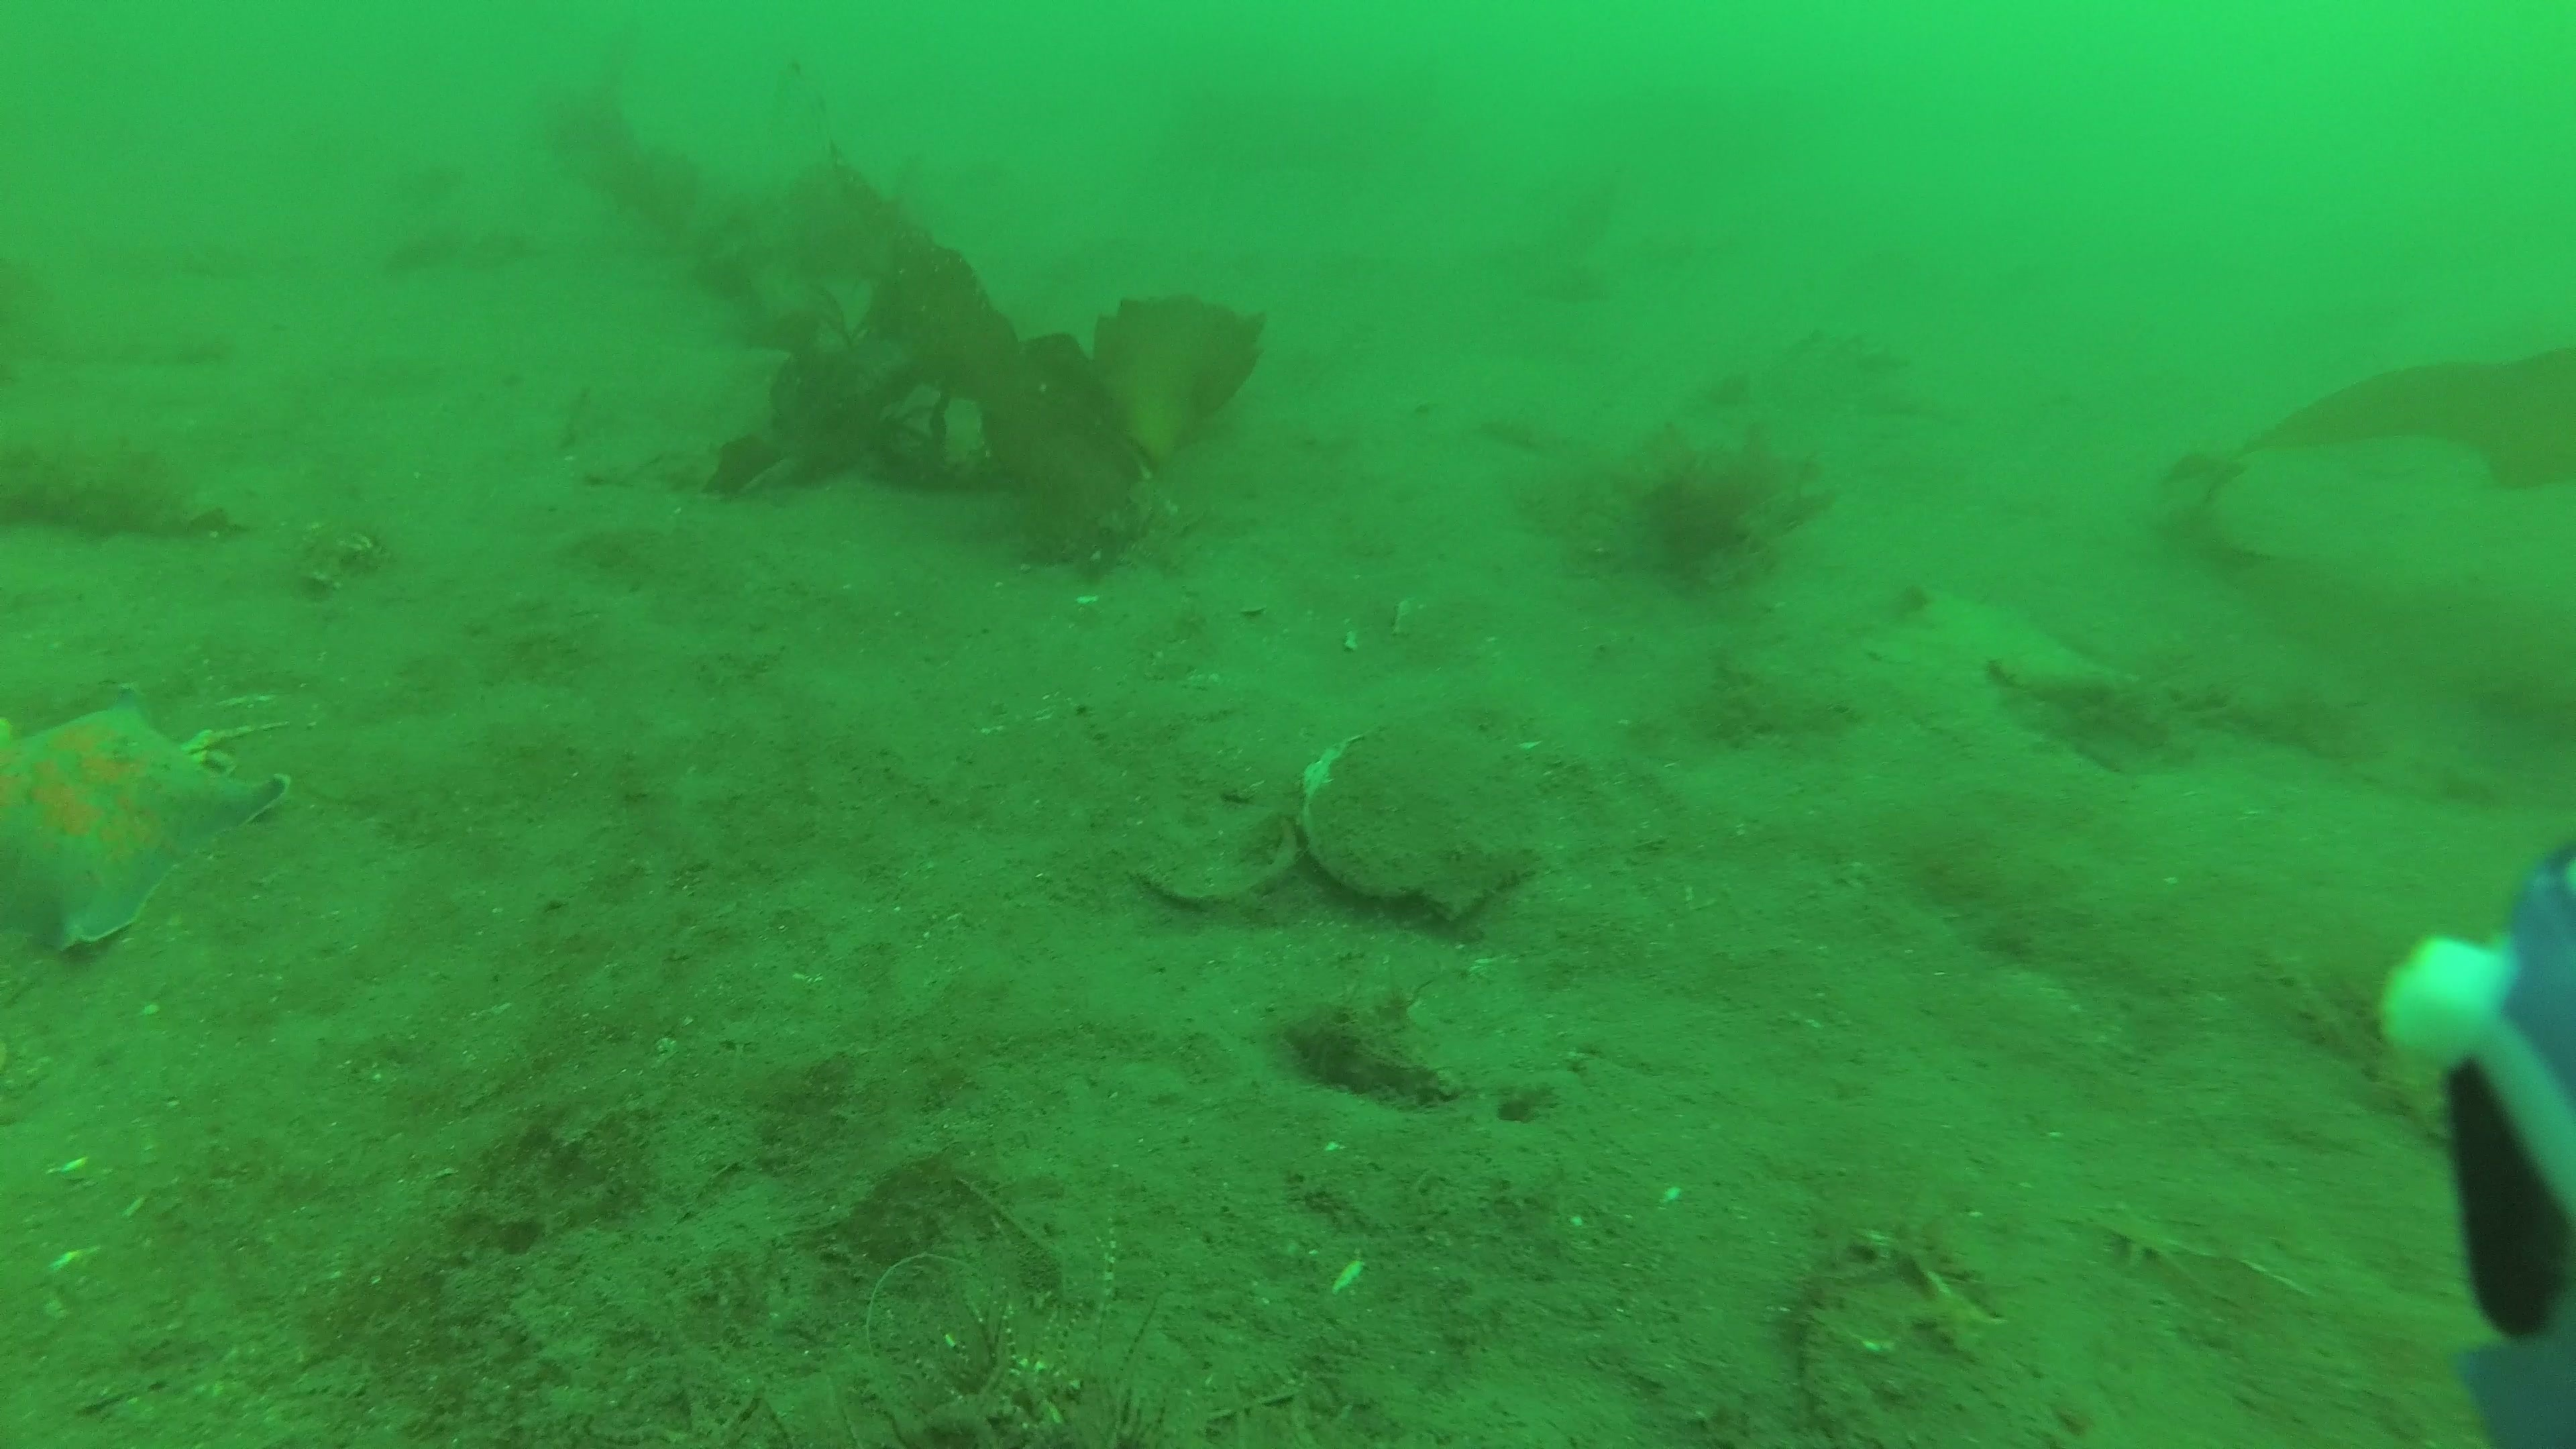scallop: (1299, 731, 1539, 918)
starfish: (0, 683, 290, 962)
